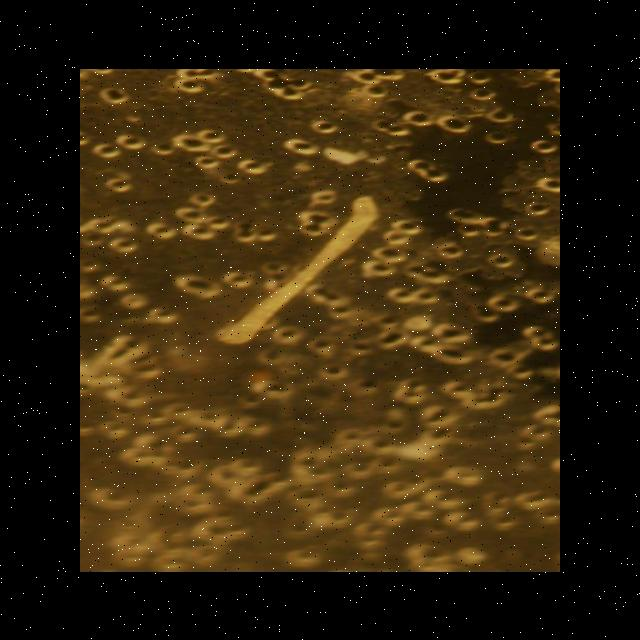Fibre: (208, 194, 382, 348)
